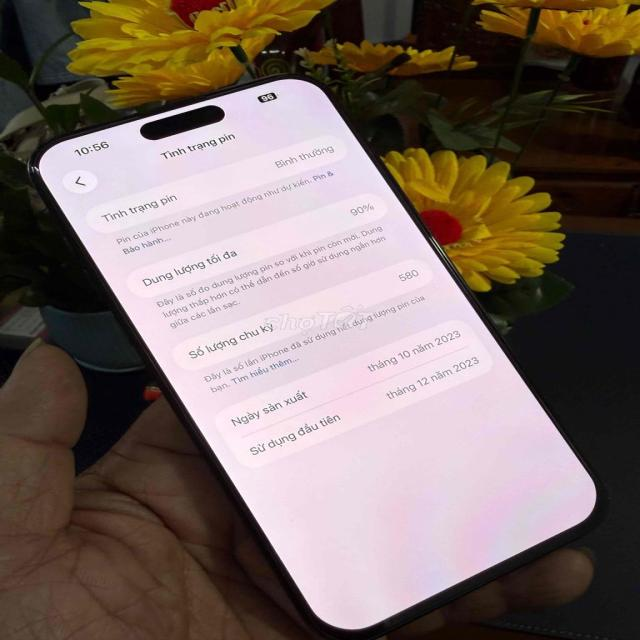gen_15: (17, 68, 609, 632)
